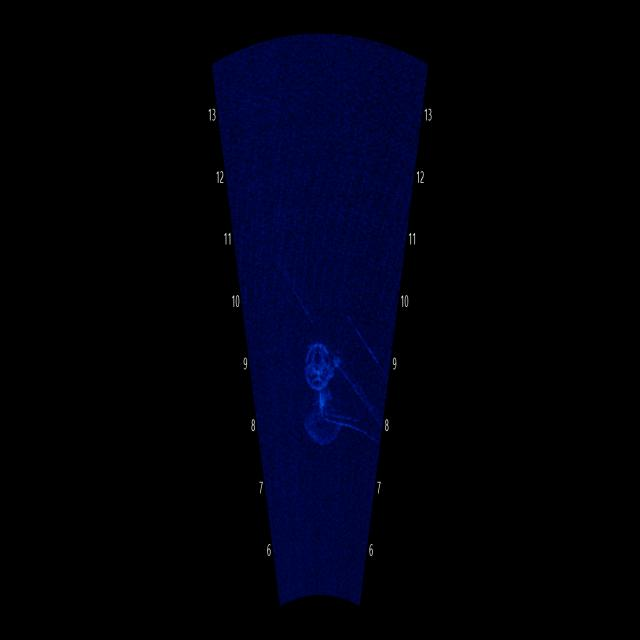circle: (294, 320, 344, 409)
